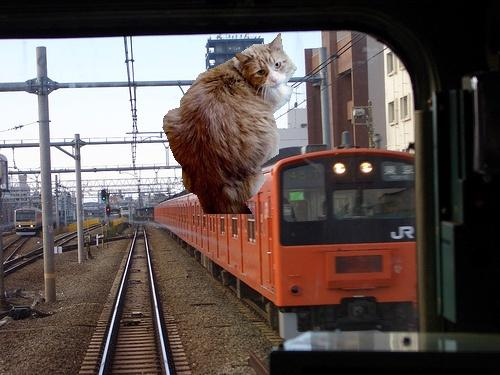tampered: (163, 34, 297, 214)
